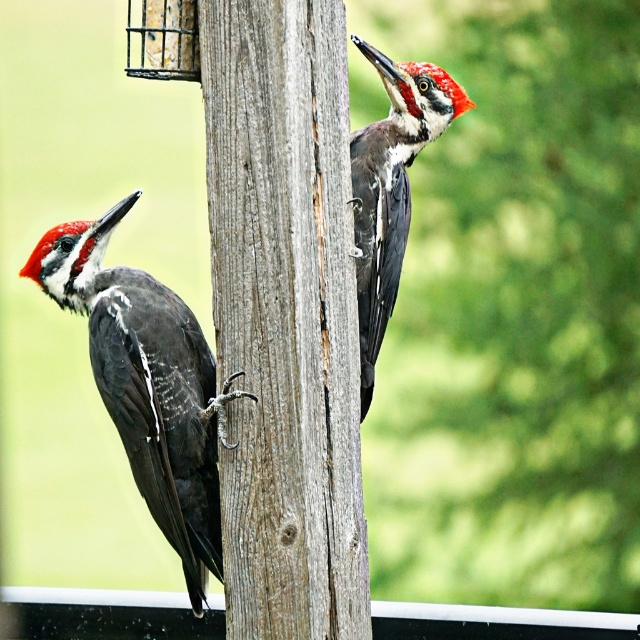Woodpecker: (18, 188, 258, 618), (346, 34, 477, 424)
